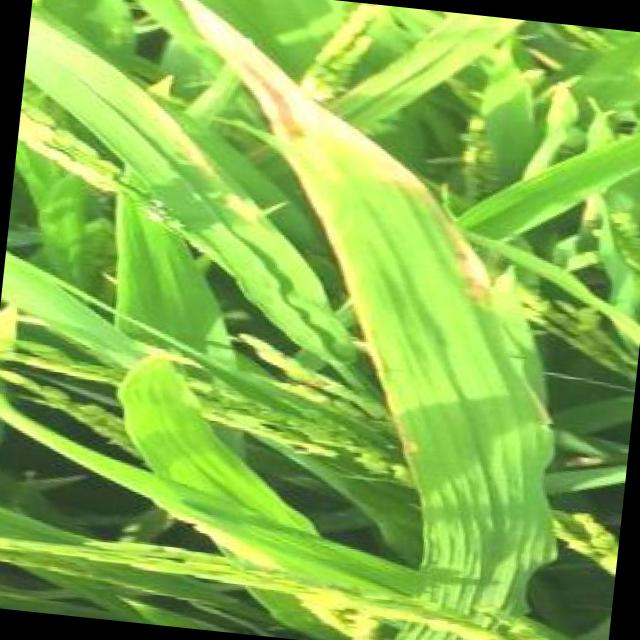Rice_Bacterial_Blight: (261, 28, 514, 554)
